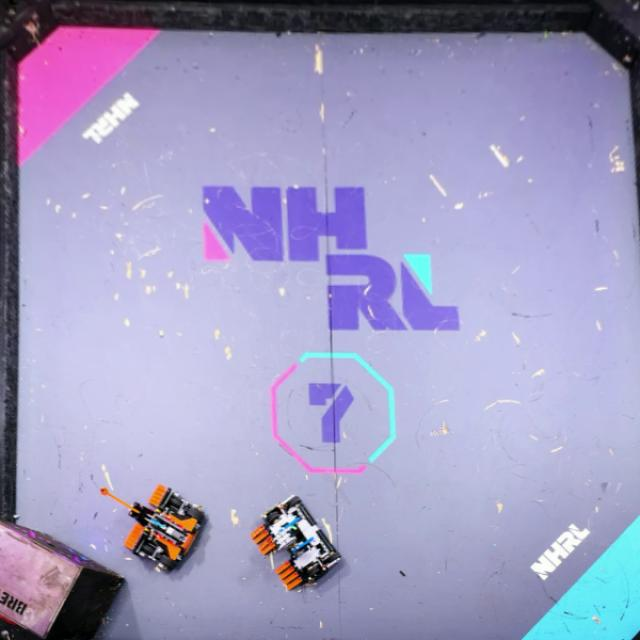housebot: (0, 519, 127, 640)
robot: (99, 484, 205, 571), (250, 495, 342, 591)
